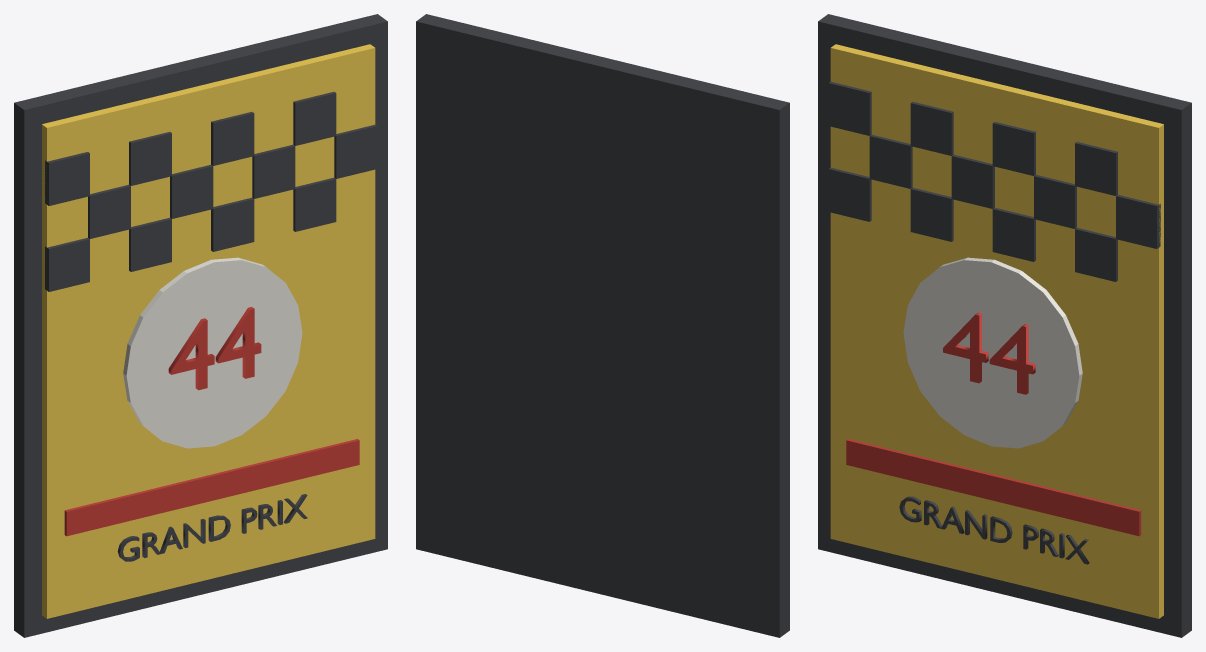
The model's file is poster_race.glb.
3 renders of one model, left to right at view 1: azimuth 30°, elevation 25°; view 2: azimuth 150°, elevation 25°; view 3: azimuth 330°, elevation 25°, orthographic.
Parts seen in each view (by area): view 1: poster_race; view 2: poster_race; view 3: poster_race.
Boxes of the visible parts, x1=… form: poster_race: x1=14, y1=14, x2=387, y2=637; poster_race: x1=416, y1=14, x2=789, y2=637; poster_race: x1=818, y1=14, x2=1191, y2=637.
Size of the model in its own units: 0.62 by 0.86 by 0.063.
